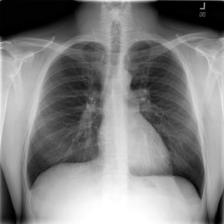normal: (21, 32, 211, 211)
